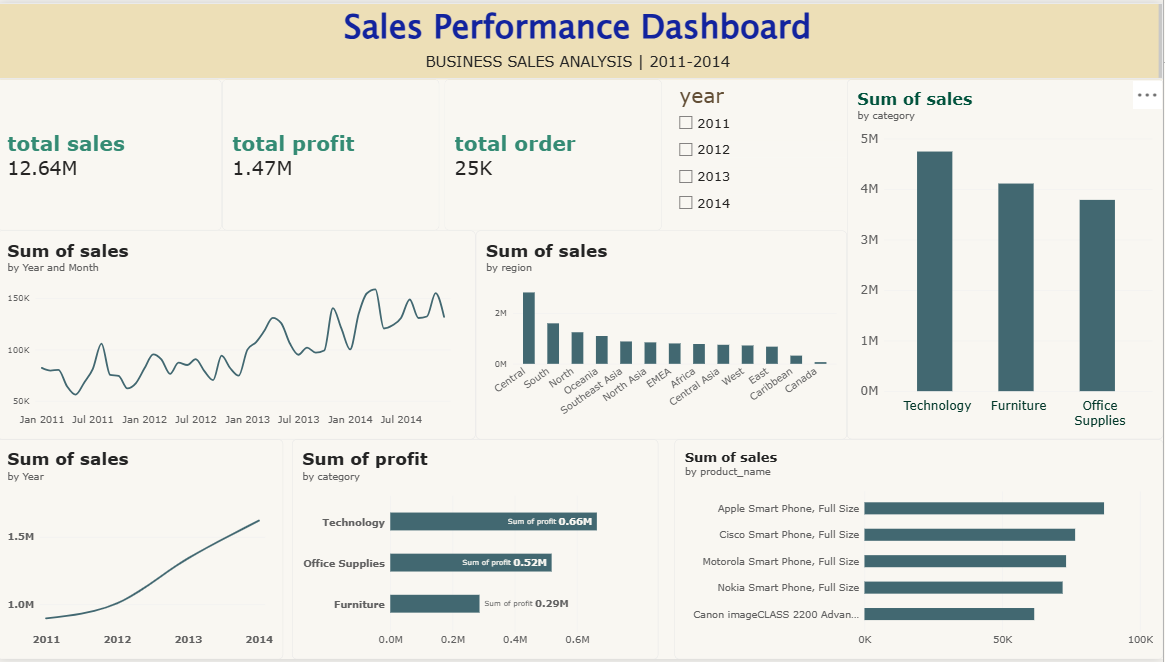

This screenshot's page, from the dashboard's own definition file:
{"tool":"powerbi","page":{"name":"Page 1","canvas":[1920,1080],"ordinal":0},"visuals":[{"type":"cardVisual","fields":{"Data":["SuperStoreOrders.total sales"]},"box":[0,125.6,370.5,249.1],"z":0},{"type":"cardVisual","fields":{"Data":["SuperStoreOrders.total profit","SuperStoreOrders.total ordre"]},"box":[370.5,125.6,724.5,249.1],"z":1000},{"type":"lineChart","fields":{"Category":["SuperStoreOrders.order_date.Variation.Date Hierarchy.Year","SuperStoreOrders.order_date.Variation.Date Hierarchy.Quarter","SuperStoreOrders.order_date.Variation.Date Hierarchy.Month","SuperStoreOrders.order_date.Variation.Date Hierarchy.Day"],"Y":["Sum(SuperStoreOrders.sales)"]},"box":[0,718.4,471.4,362.3],"z":2000},{"type":"slicer","fields":{"Values":["SuperStoreOrders.year"]},"box":[1115.6,131.7,284,242.9],"z":3000},{"type":"clusteredColumnChart","fields":{"Category":["SuperStoreOrders.category"],"Y":["Sum(SuperStoreOrders.sales)"]},"box":[1399.7,125.6,520.8,592.8],"z":4000},{"type":"clusteredBarChart","fields":{"Category":["SuperStoreOrders.category"],"Y":["Sum(SuperStoreOrders.profit)"]},"box":[485.8,718.4,603.1,362.3],"z":5000},{"type":"lineChart","fields":{"Category":["SuperStoreOrders.order_date.Variation.Date Hierarchy.Year","SuperStoreOrders.order_date.Variation.Date Hierarchy.Month"],"Y":["Sum(SuperStoreOrders.sales)"]},"box":[0,374.6,788.3,343.7],"z":6000},{"type":"clusteredColumnChart","fields":{"Category":["SuperStoreOrders.region"],"Y":["Sum(SuperStoreOrders.sales)"]},"box":[788.3,374.6,611.3,343.7],"z":7000},{"type":"clusteredBarChart","fields":{"Category":["SuperStoreOrders.product_name"],"Y":["Sum(SuperStoreOrders.sales)"]},"box":[1115.6,718.4,804.8,362.3],"z":8000},{"type":"textbox","box":[0,0,1920.4,125.6],"z":9000}]}

Visuals, with their boxes in screenshot pixels (x1, y1, x2, y2), scaled from the page's 1920x1080 canvas onto the 1165x662 screenshot:
cardVisual - SuperStoreOrders.total sales: {"x1": 0, "y1": 77, "x2": 225, "y2": 230}
cardVisual - SuperStoreOrders.total profit x SuperStoreOrders.total ordre: {"x1": 225, "y1": 77, "x2": 664, "y2": 230}
lineChart - SuperStoreOrders.order_date.Variation.Date Hierarchy.Year x SuperStoreOrders.order_date.Variation.Date Hierarchy.Quarter: {"x1": 0, "y1": 440, "x2": 286, "y2": 661}
slicer - SuperStoreOrders.year: {"x1": 677, "y1": 81, "x2": 849, "y2": 230}
clusteredColumnChart - SuperStoreOrders.category x Sum(SuperStoreOrders.sales): {"x1": 849, "y1": 77, "x2": 1164, "y2": 440}
clusteredBarChart - SuperStoreOrders.category x Sum(SuperStoreOrders.profit): {"x1": 295, "y1": 440, "x2": 661, "y2": 661}
lineChart - SuperStoreOrders.order_date.Variation.Date Hierarchy.Year x SuperStoreOrders.order_date.Variation.Date Hierarchy.Month: {"x1": 0, "y1": 230, "x2": 478, "y2": 440}
clusteredColumnChart - SuperStoreOrders.region x Sum(SuperStoreOrders.sales): {"x1": 478, "y1": 230, "x2": 849, "y2": 440}
clusteredBarChart - SuperStoreOrders.product_name x Sum(SuperStoreOrders.sales): {"x1": 677, "y1": 440, "x2": 1164, "y2": 661}
textbox: {"x1": 0, "y1": 0, "x2": 1164, "y2": 77}
